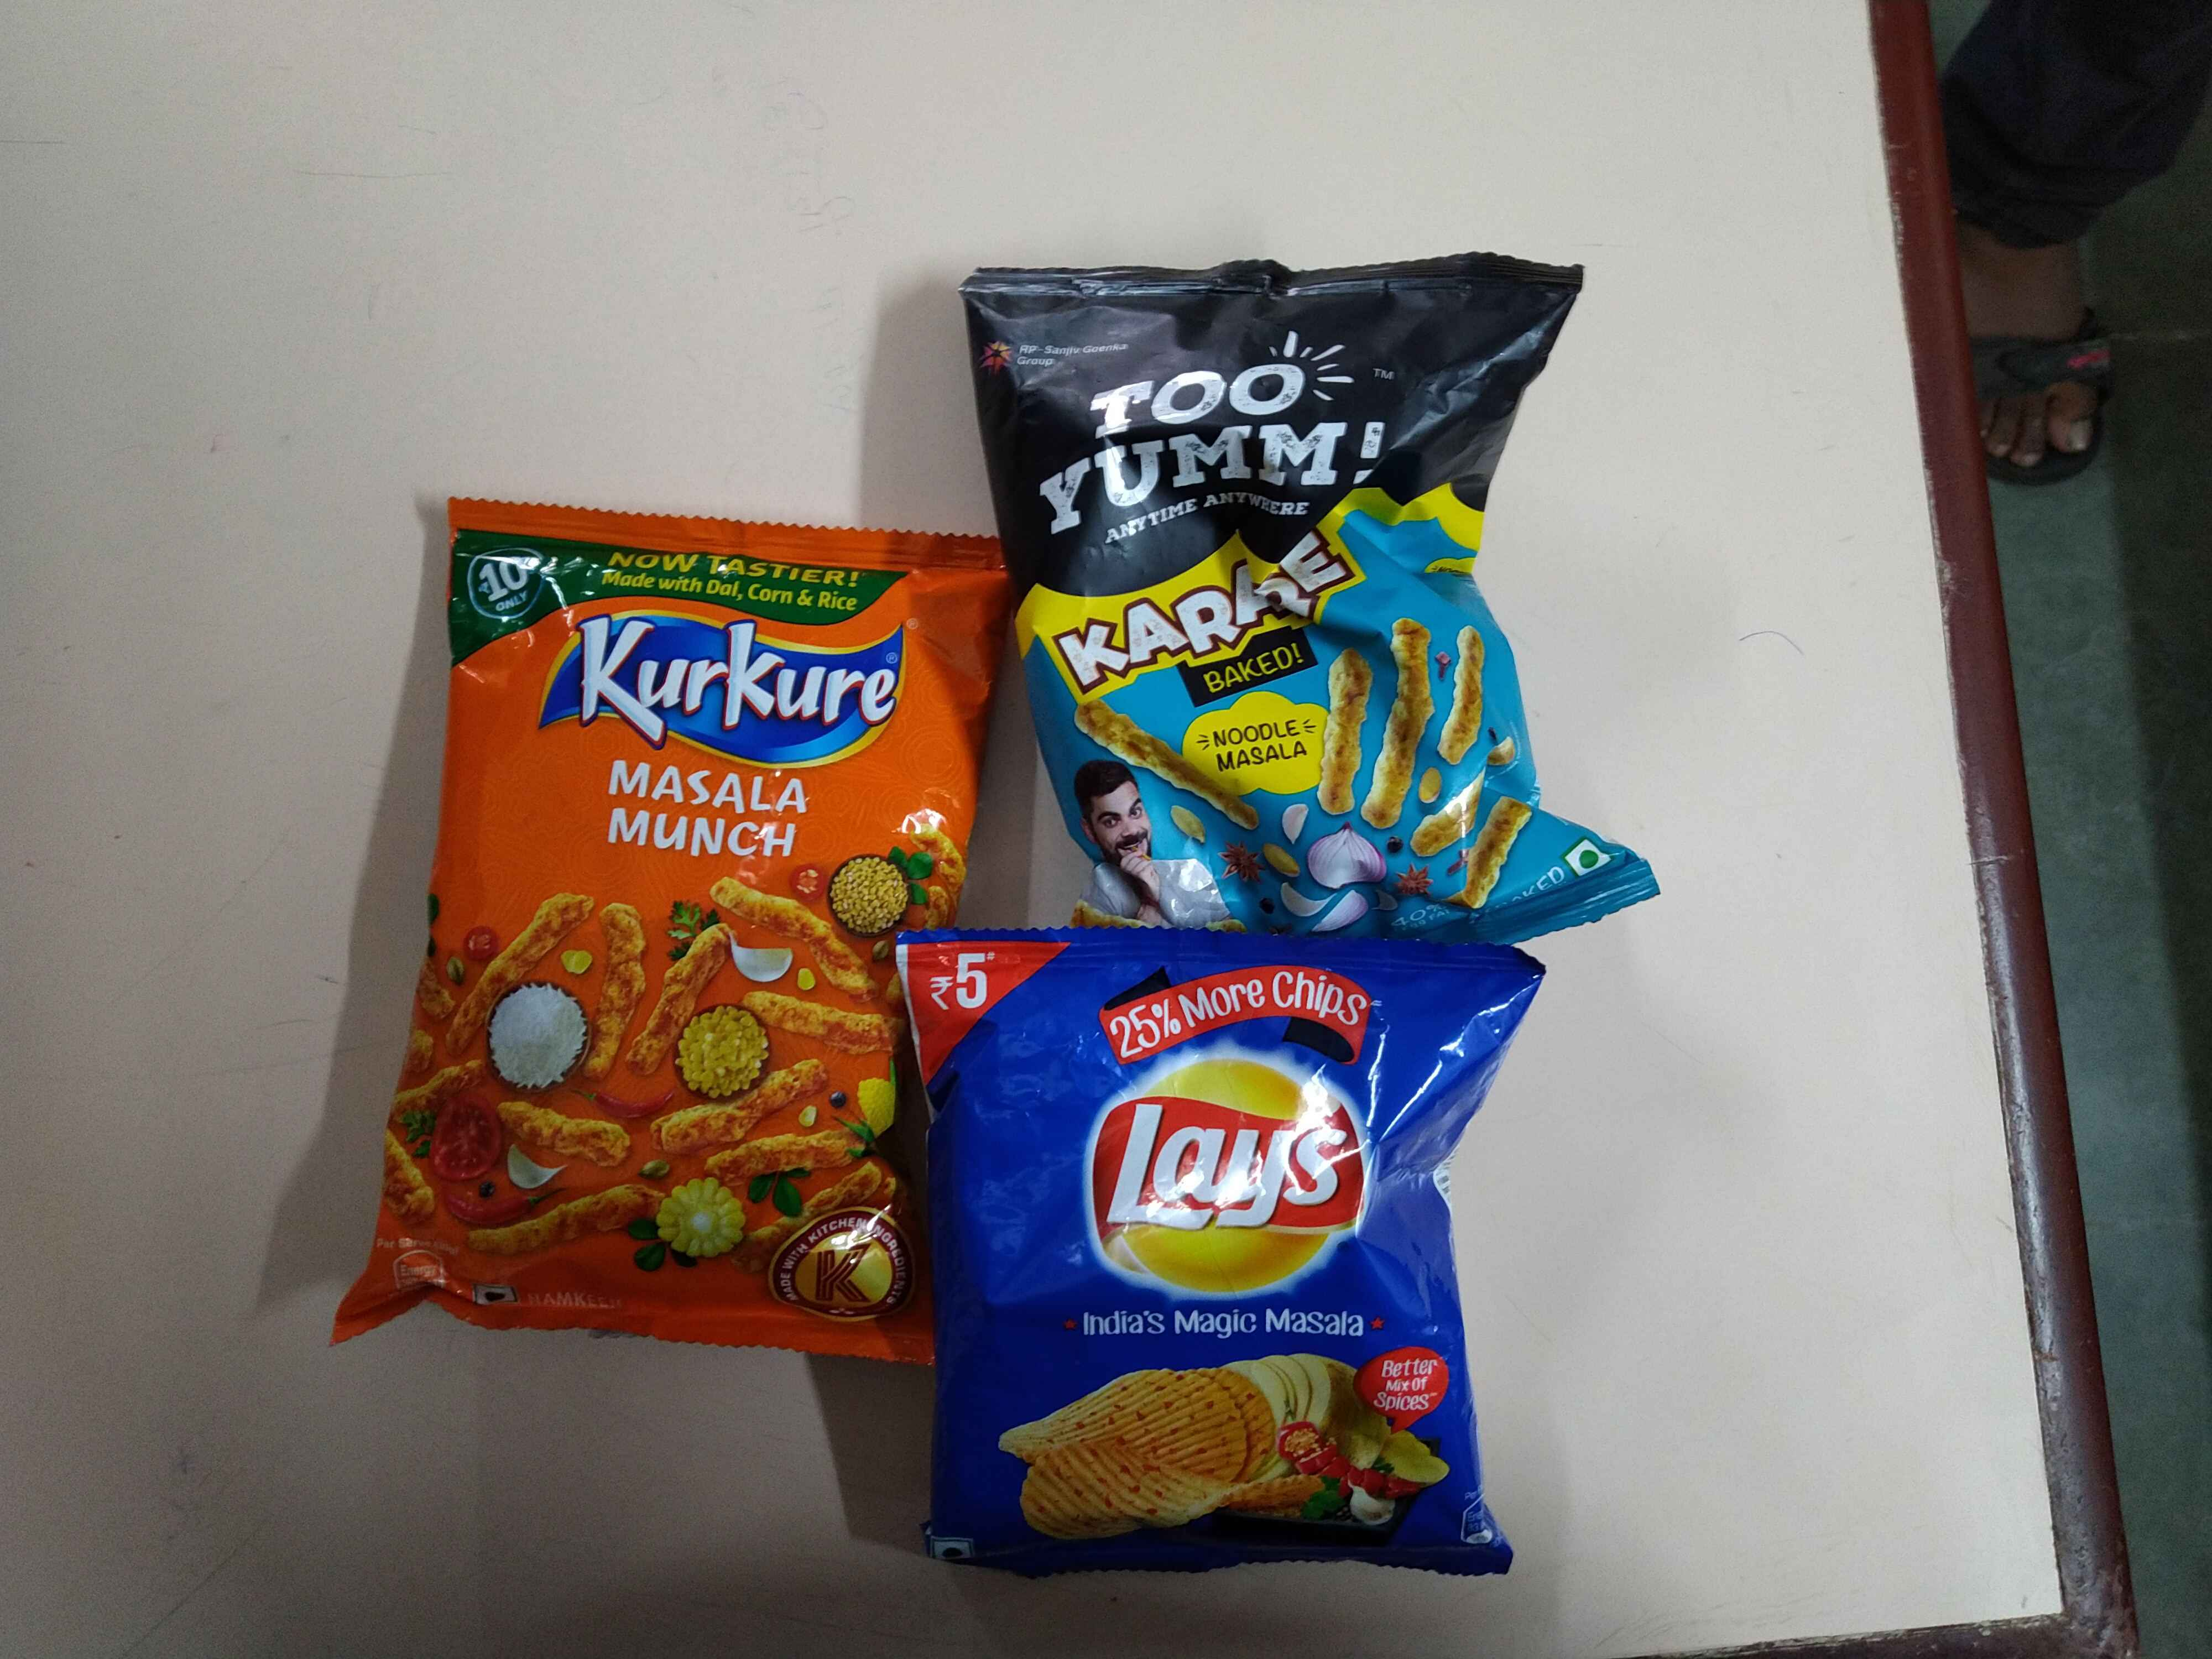Lays: (1078, 1053, 1395, 1307)
kurkure: (529, 573, 920, 770)
tooyumm: (1000, 357, 1392, 521)
